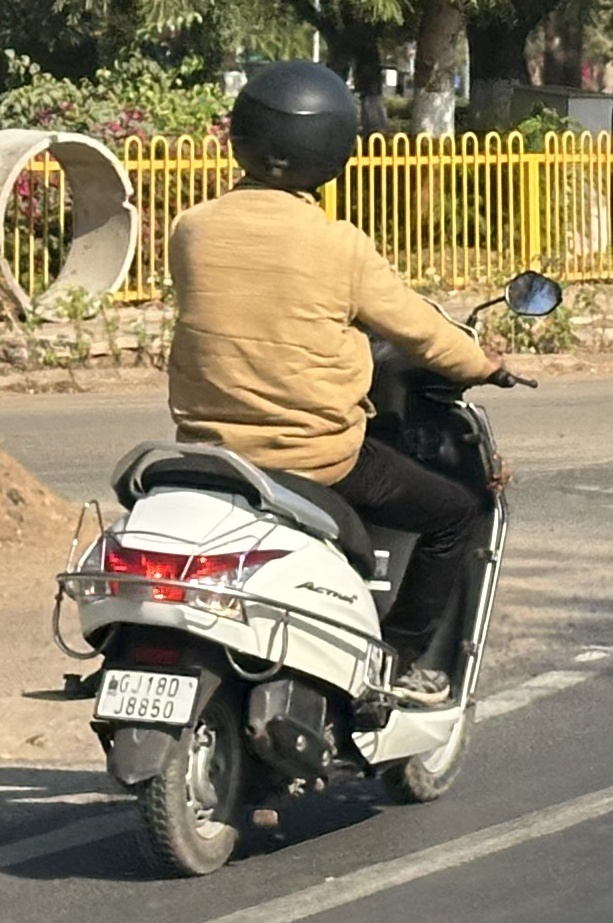BikeWithRider: (20, 47, 569, 887)
Helmet: (218, 50, 366, 199)
